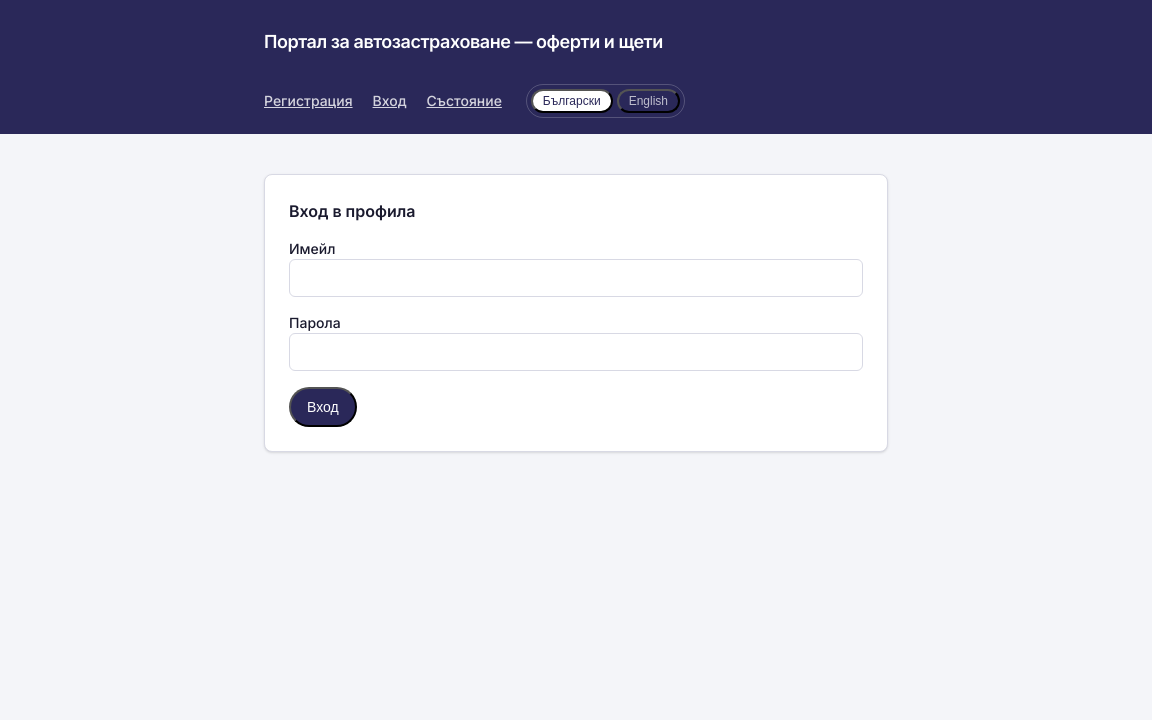
Scenario: LoginForm role-based post-login routing › leaves the invalid-credentials path unchanged
The width and height of the screenshot is (1152, 720).
In the field labelled "Имейл": point(576, 278) top-left (289, 259), bottom-right (863, 297), type "someone@example.com"
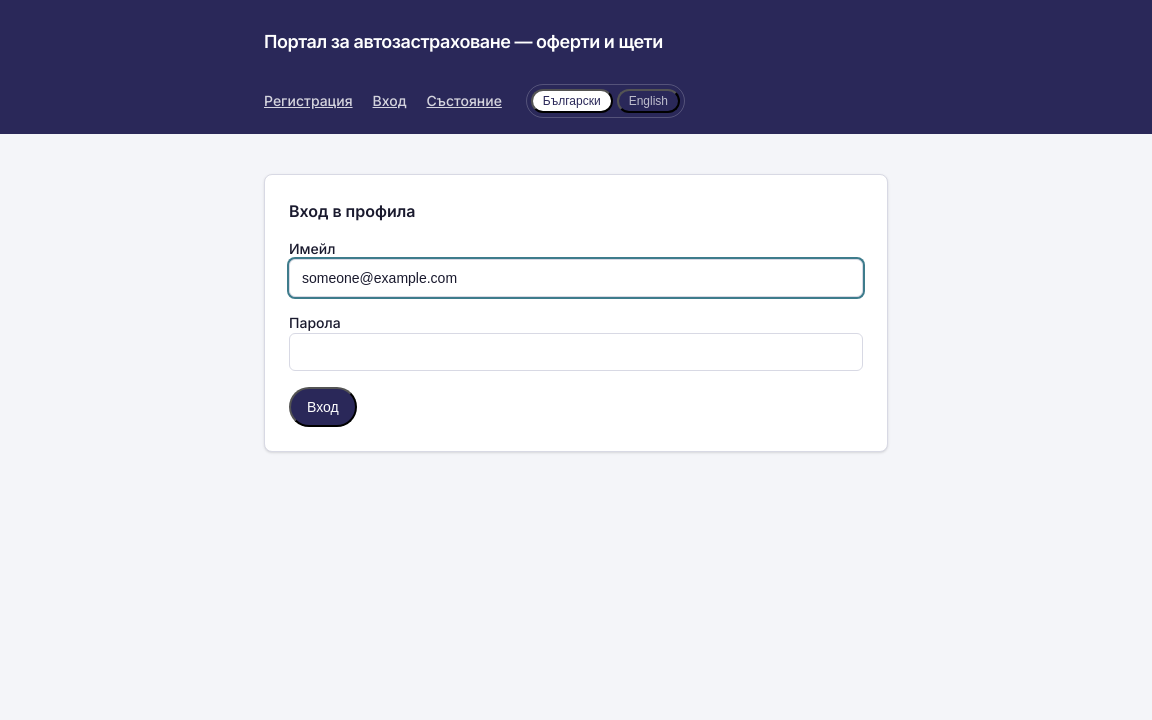
In the password field labelled "Парола": point(576, 352) top-left (289, 333), bottom-right (863, 371), type "DemoPass123!"
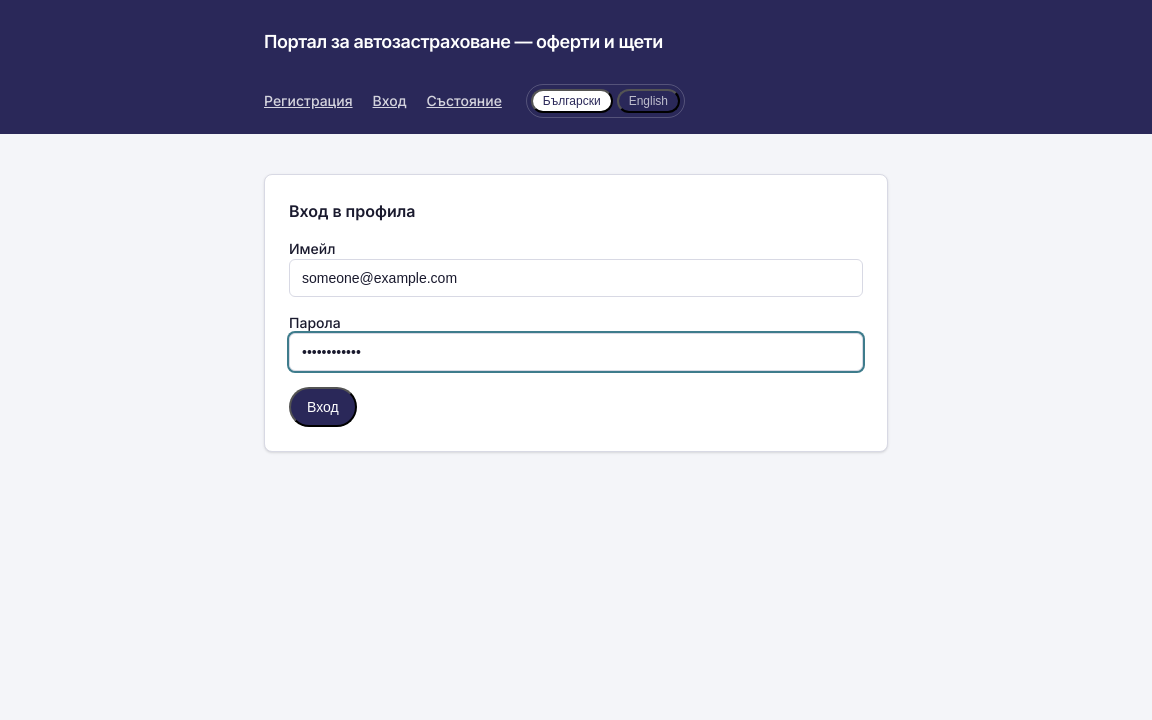
Click the button "Вход": point(323, 407) top-left (289, 387), bottom-right (357, 427)
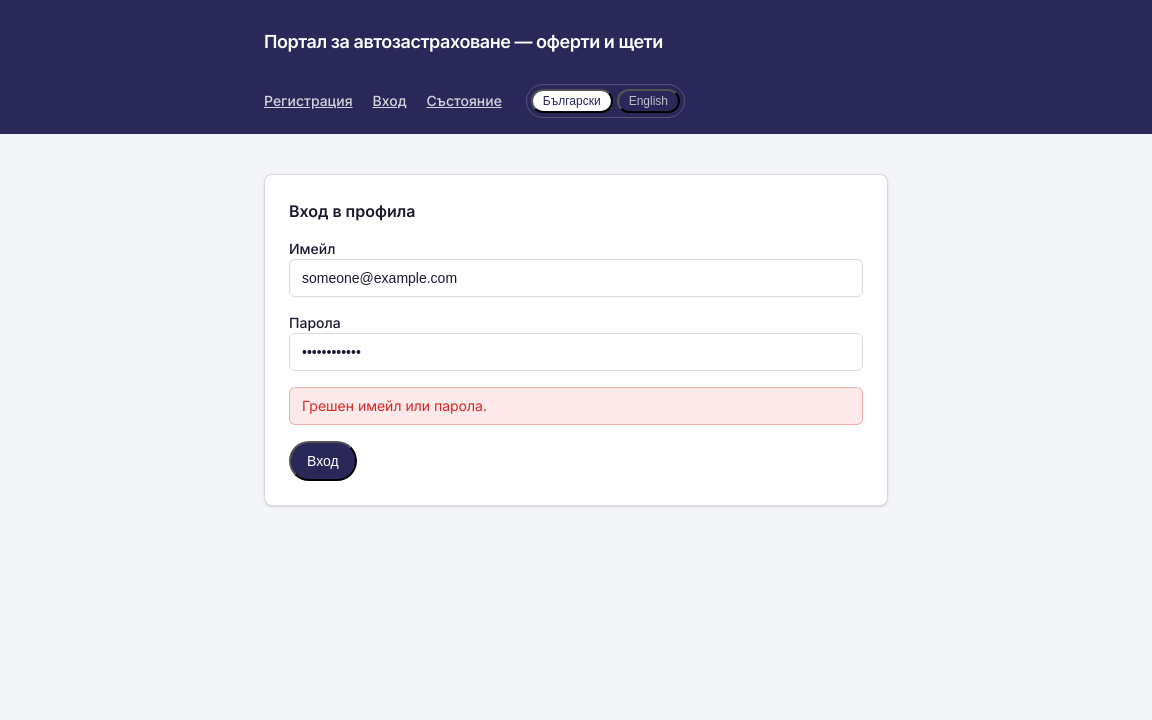
Expected: the button "Вход" is enabled, top-left (289, 441), bottom-right (357, 481)
Expected: the message with test id "login-error" reads "Грешен имейл или парола.", top-left (302, 397), bottom-right (487, 414)
